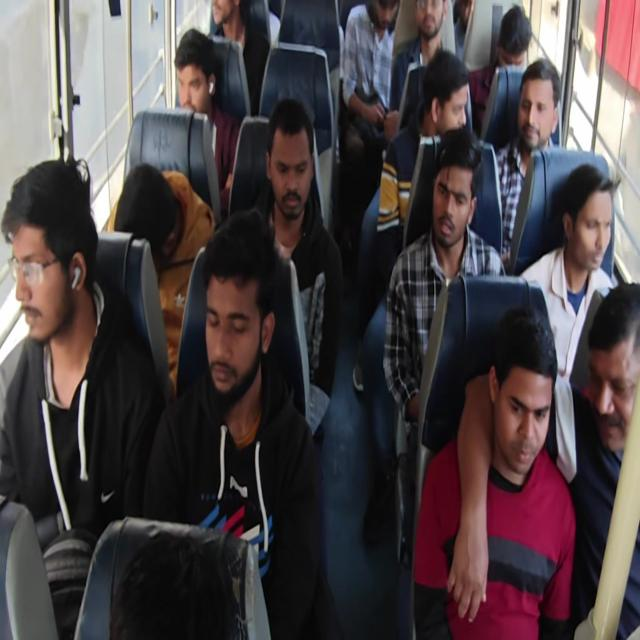person: (1, 1, 638, 638), (142, 208, 330, 638), (0, 155, 162, 638), (456, 281, 640, 638), (412, 305, 577, 638), (382, 128, 507, 426), (251, 97, 344, 439), (568, 281, 640, 638), (113, 162, 216, 395), (375, 49, 471, 282), (519, 162, 618, 387), (493, 58, 562, 264), (173, 28, 241, 214), (340, 0, 399, 159), (388, 0, 456, 131), (472, 4, 531, 134), (206, 0, 270, 115)
